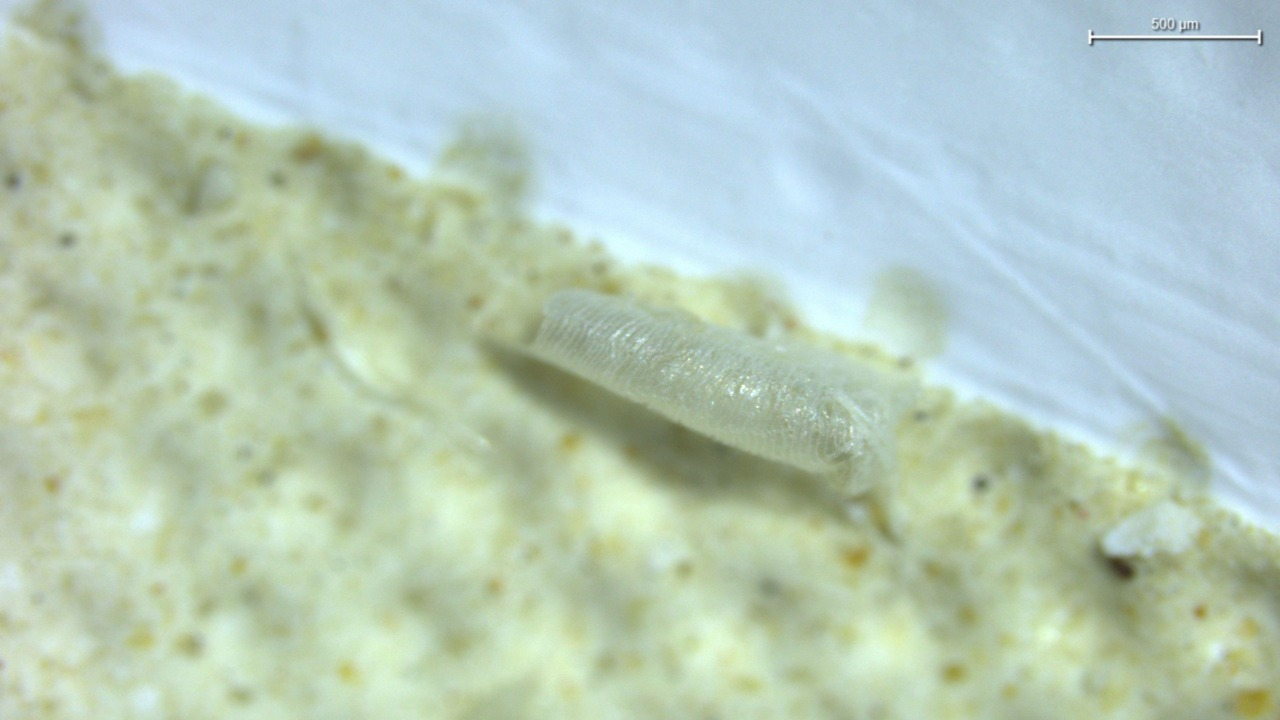microplastic_fragment: (524, 291, 915, 498)
